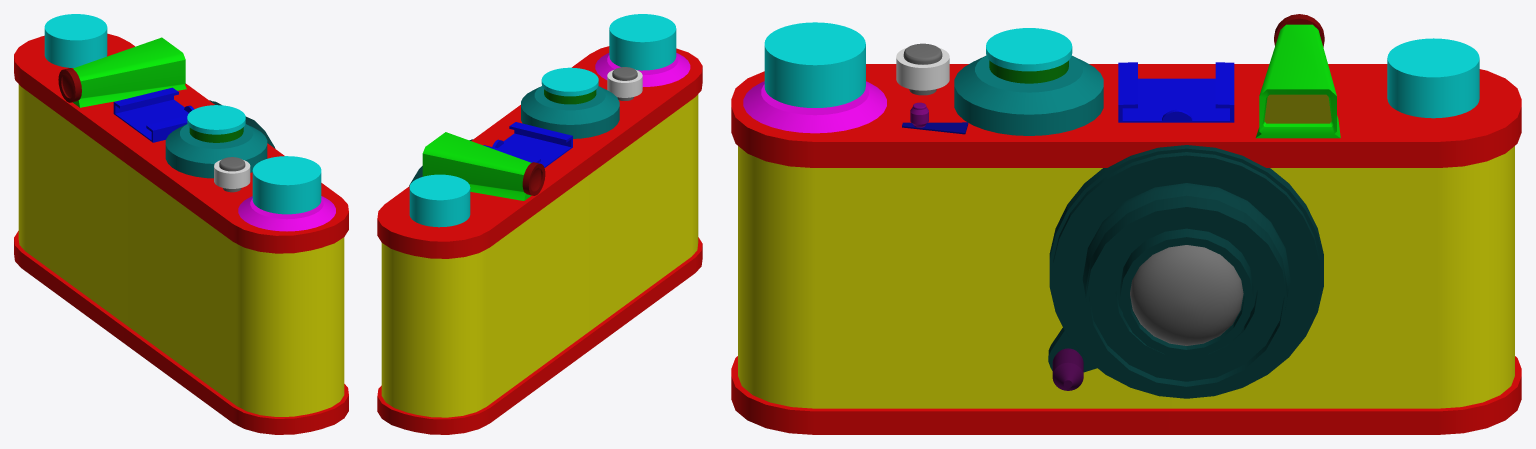
File: camera_low-03.fbx
The picture shows the model from 3 angles, left to right: view 1: azimuth 30°, elevation 25°; view 2: azimuth 150°, elevation 25°; view 3: azimuth 270°, elevation 25°; orthographic projection. The views are drawn at different scales.
Visible parts, largest first — view 1: camera_low; view 2: camera_low; view 3: camera_low.
Part boxes in pixels (box(x1,y1,x2,y2)): camera_low: box(14, 14, 348, 434); camera_low: box(377, 14, 702, 434); camera_low: box(731, 14, 1521, 434).
Bounding box in the file's own units: 0.0903 × 0.1278 × 0.2601.
